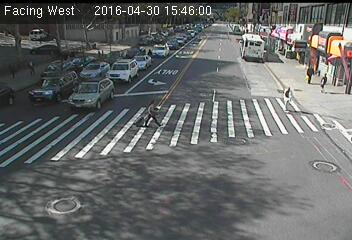neg: (90, 46, 113, 77), (70, 52, 92, 80), (3, 85, 23, 112), (9, 25, 28, 50), (318, 45, 335, 68), (284, 47, 299, 67), (300, 38, 312, 55), (134, 113, 146, 129), (292, 103, 304, 119), (44, 60, 53, 71)
pos: (143, 95, 166, 127), (276, 82, 297, 110), (315, 68, 335, 94), (302, 61, 319, 84), (2, 59, 19, 82), (23, 58, 37, 77)
